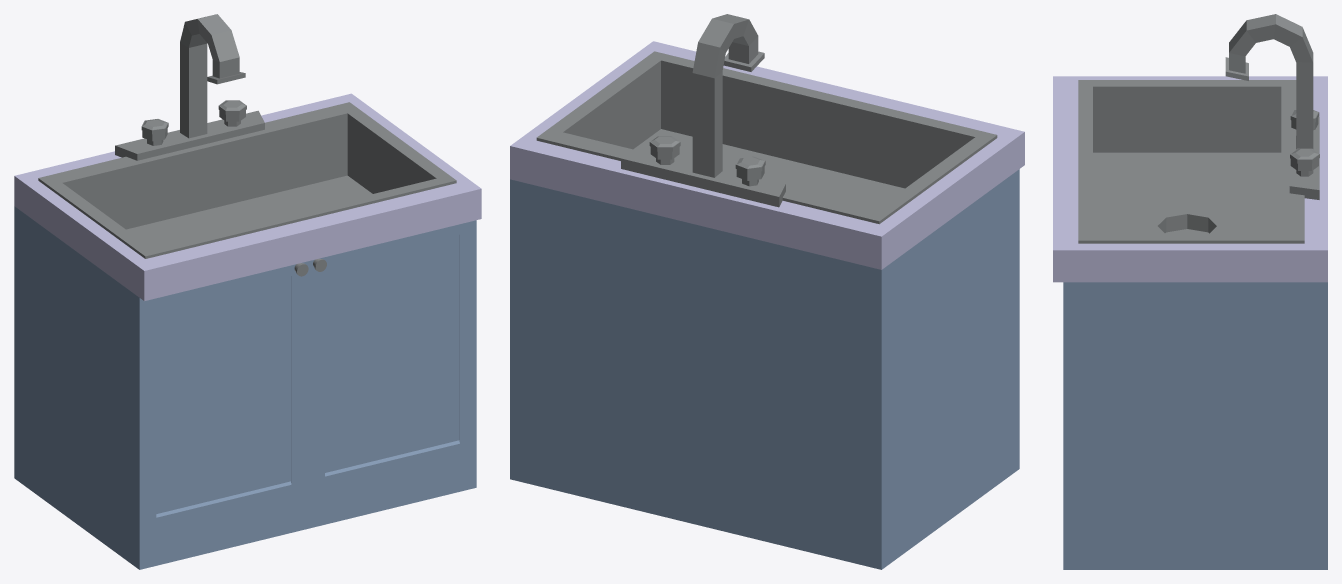
Rendered from CounterTop_Sink.fbx.
The picture shows the model from 3 angles, left to right: view 1: azimuth 30°, elevation 25°; view 2: azimuth 150°, elevation 25°; view 3: azimuth 270°, elevation 25°; orthographic projection. The views are drawn at different scales.
Visible parts, largest first — view 1: Sinktop; view 2: Sinktop; view 3: Sinktop.
Part boxes in pixels (x1=…): Sinktop: x1=14, y1=14, x2=481, y2=569; Sinktop: x1=510, y1=14, x2=1024, y2=569; Sinktop: x1=1053, y1=14, x2=1327, y2=569.
Bounding box in the file's own units: 1400 × 1741 × 935.
